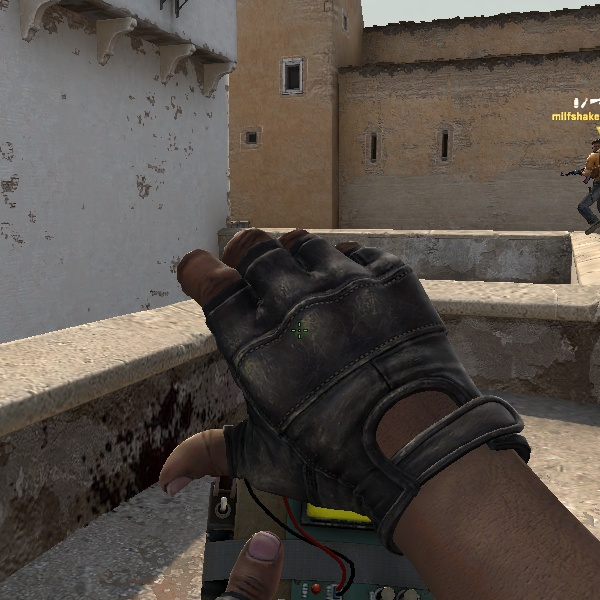t_body: (565, 137, 599, 238)
